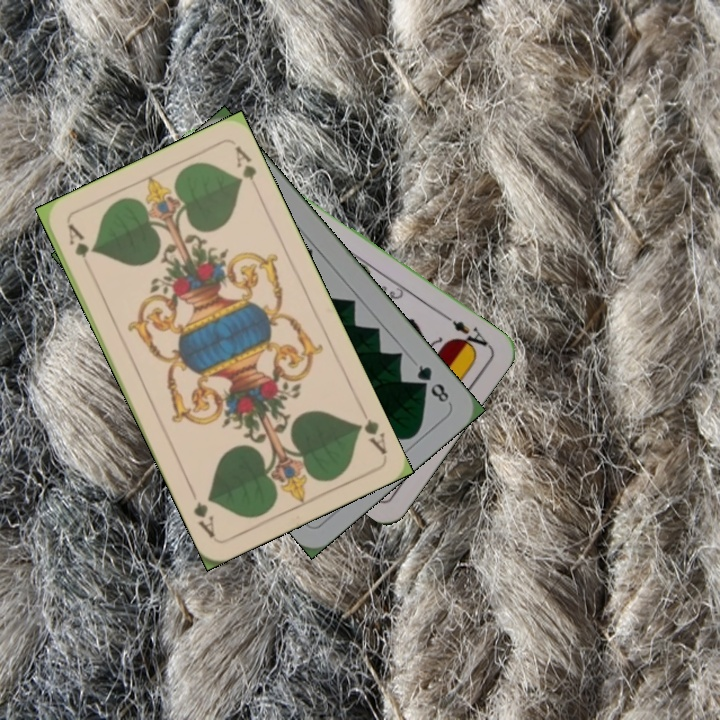EA: (441, 311, 493, 355)
G8: (412, 360, 452, 406)
GA: (351, 414, 390, 458), (64, 219, 93, 276)
